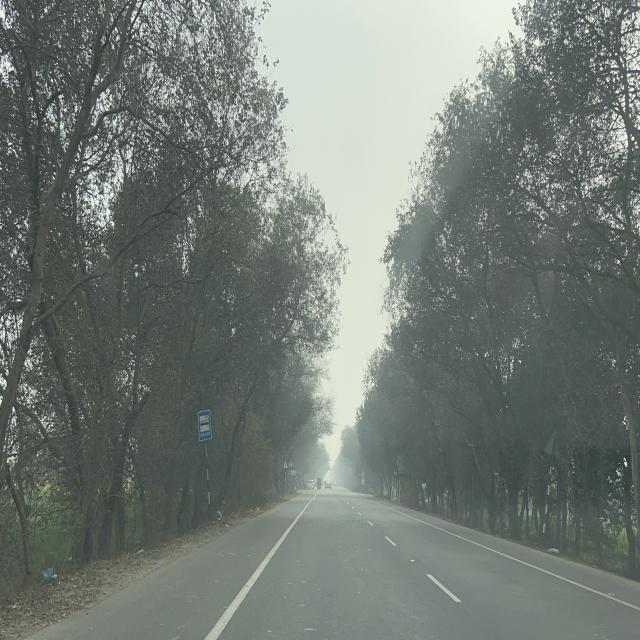INFORMATION: (197, 409, 212, 442)
